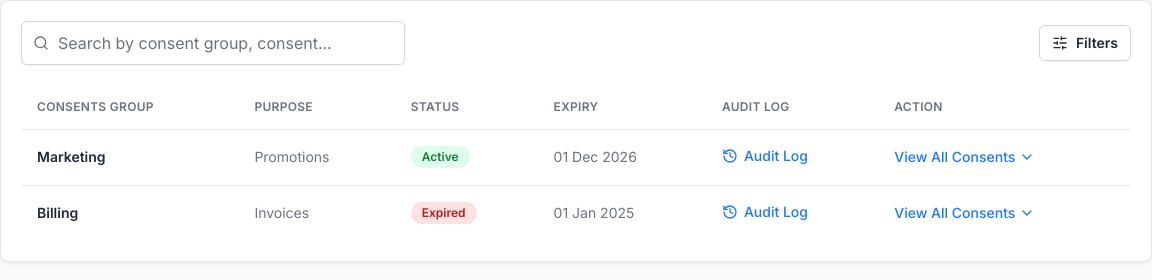
Test: PreferenceDetail › filters records by the search query
Type "Marketing" into the search field named "Search Email preferences" at {"x": 213, "y": 43}, box [21,21,405,65]
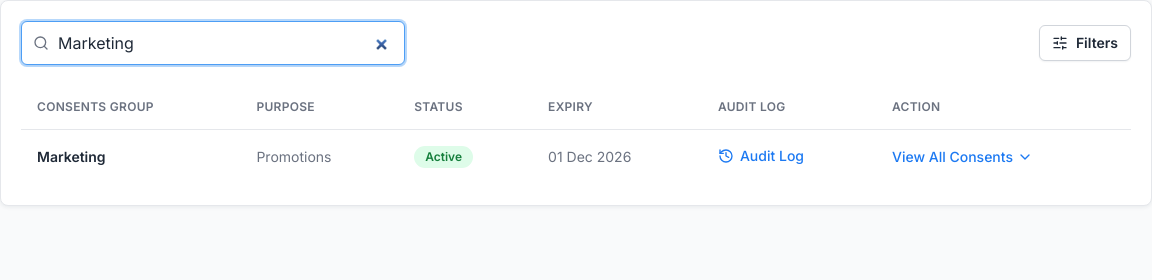
Check: the button "Marketing" is shown, box [37,147,106,167]
Check: the button "Billing" is gone
